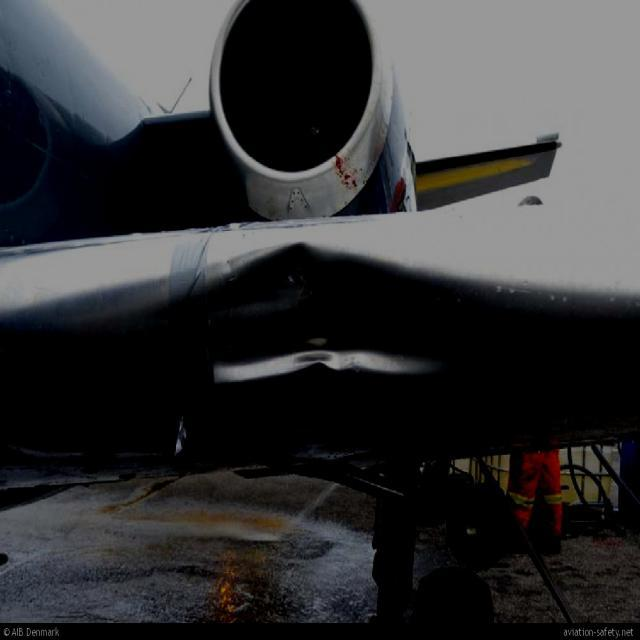dent: (191, 251, 447, 396)
